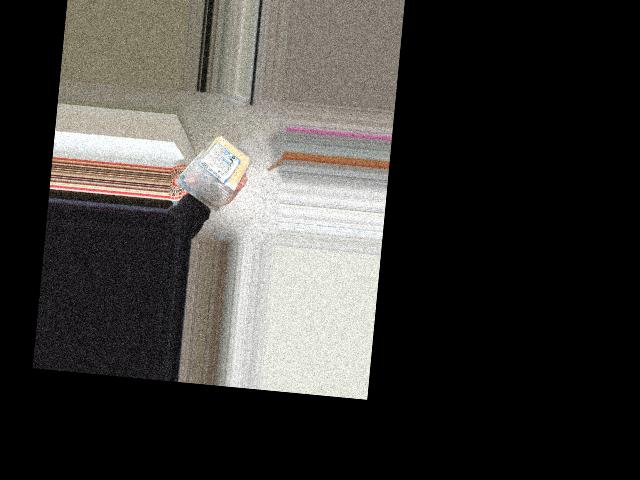cheese: (180, 129, 243, 203)
